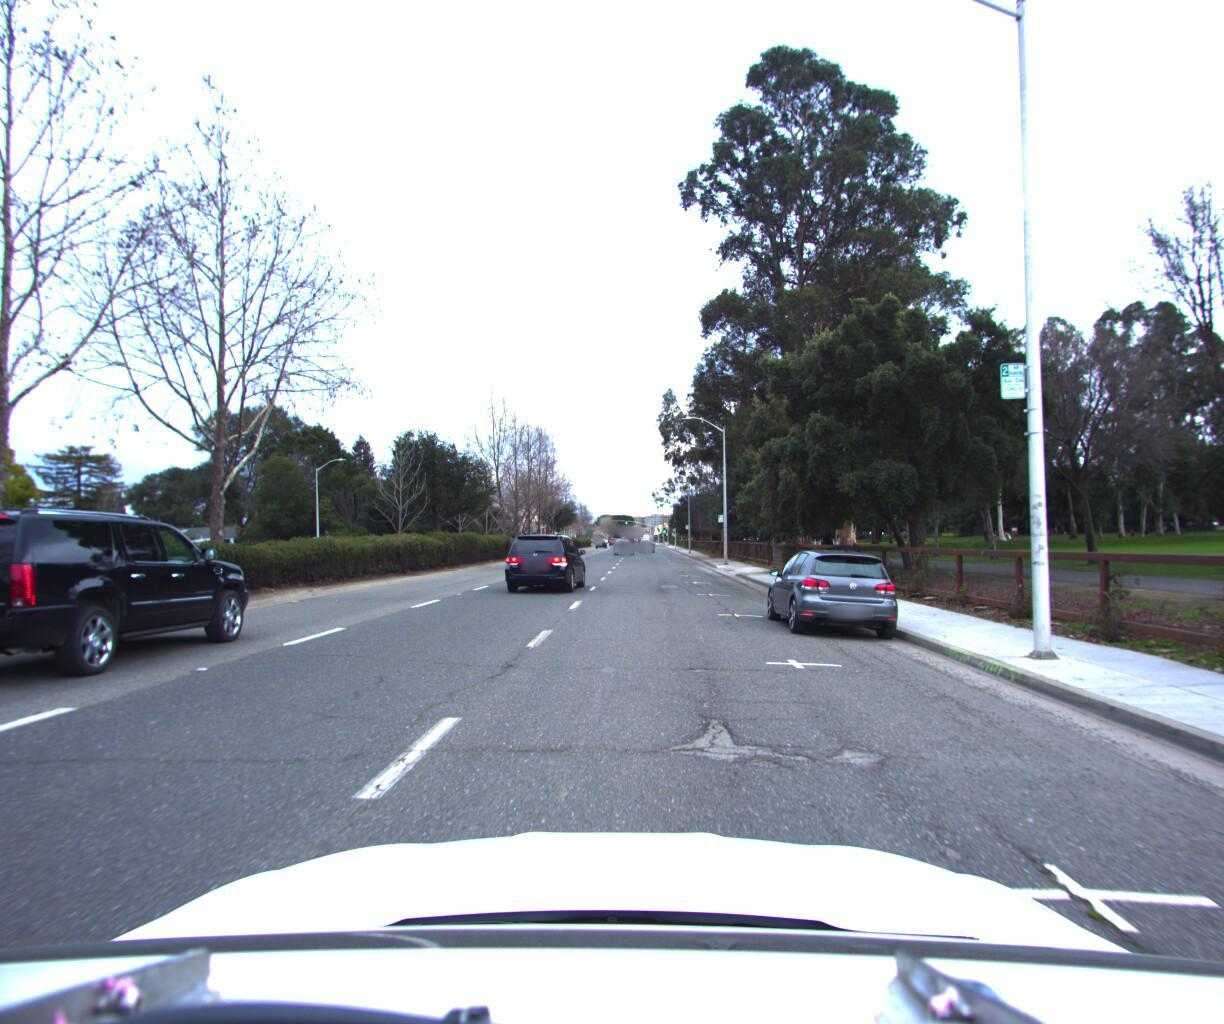car: (0, 503, 256, 695), (753, 538, 913, 640), (500, 531, 588, 593), (608, 532, 631, 550)
